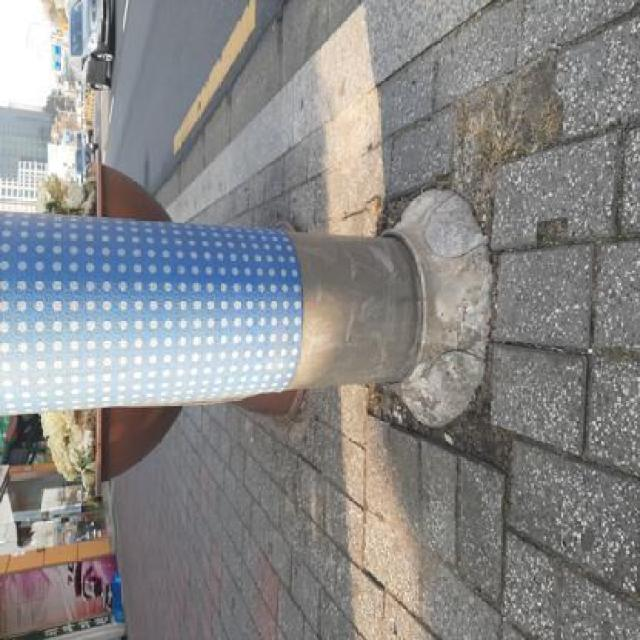pole: (0, 175, 498, 435)
